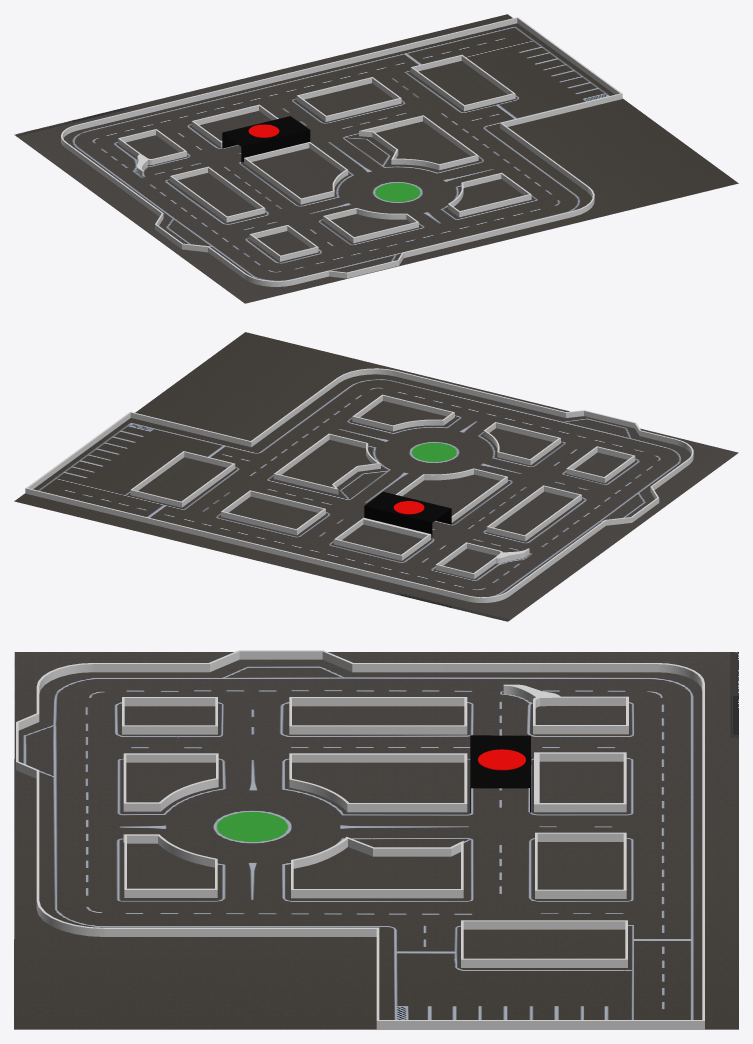
The model's file is duvarlı_pist.dae.
The picture shows the model from 3 angles, top to bottom: view 1: azimuth 30°, elevation 25°; view 2: azimuth 150°, elevation 25°; view 3: azimuth 270°, elevation 25°; orthographic projection. The views are drawn at different scales.
Visible parts, largest first — view 1: Plane.140, dFBXASC196FBXASC177s_duvar, Cube, ic_duvar009, ic_duvar007, ic_duva00r4, ic_duvar005, ic_duvar002, ic_duvar010, ic_duvar011, ic_duvar001, ic_duvar003 (+1 smaller); view 2: Plane.140, dFBXASC196FBXASC177s_duvar, Cube, ic_duvar009, ic_duva00r4, ic_duvar005, ic_duvar011, ic_duvar006, ic_duvar002, ic_duvar007, ic_duvar010, ic_duvar001 (+1 smaller); view 3: Plane.140, dFBXASC196FBXASC177s_duvar, ic_duvar007, ic_duvar002, ic_duvar009, ic_duva00r4, Cube, ic_duvar006, ic_duvar005, ic_duvar010, ic_duvar011, ic_duvar001 (+3 smaller).
Part boxes in pixels (bbox=[...]): Plane.140: bbox=[14, 14, 738, 303]; dFBXASC196FBXASC177s_duvar: bbox=[61, 17, 622, 286]; Cube: bbox=[222, 116, 310, 162]; ic_duvar009: bbox=[359, 115, 478, 170]; ic_duvar007: bbox=[244, 142, 348, 204]; ic_duva00r4: bbox=[410, 54, 515, 111]; ic_duvar005: bbox=[296, 77, 401, 121]; ic_duvar002: bbox=[170, 166, 265, 222]; ic_duvar010: bbox=[323, 208, 418, 243]; ic_duvar011: bbox=[448, 172, 531, 217]; ic_duvar001: bbox=[249, 225, 318, 261]; ic_duvar003: bbox=[118, 129, 186, 165]; Plane.140: bbox=[14, 332, 738, 621]; dFBXASC196FBXASC177s_duvar: bbox=[25, 368, 693, 602]; Cube: bbox=[364, 491, 451, 538]; ic_duvar009: bbox=[273, 433, 380, 494]; ic_duva00r4: bbox=[130, 451, 235, 507]; ic_duvar005: bbox=[221, 490, 325, 535]; ic_duvar011: bbox=[352, 394, 454, 431]; ic_duvar006: bbox=[334, 517, 431, 560]; ic_duvar002: bbox=[486, 485, 581, 541]; ic_duvar007: bbox=[395, 468, 507, 522]; ic_duvar010: bbox=[483, 422, 560, 465]; ic_duvar001: bbox=[566, 446, 635, 483]; Plane.140: bbox=[14, 652, 738, 1029]; dFBXASC196FBXASC177s_duvar: bbox=[16, 650, 704, 1029]; ic_duvar007: bbox=[289, 753, 467, 812]; ic_duvar002: bbox=[289, 697, 467, 734]; ic_duvar009: bbox=[291, 836, 463, 898]; ic_duva00r4: bbox=[461, 920, 627, 967]; Cube: bbox=[470, 735, 531, 812]; ic_duvar006: bbox=[534, 752, 626, 812]; ic_duvar005: bbox=[535, 832, 626, 898]; ic_duvar010: bbox=[123, 753, 218, 811]; ic_duvar011: bbox=[123, 834, 217, 897]; ic_duvar001: bbox=[122, 697, 217, 734].
Bounding box in the file's own units: 3890 × 3156 × 124.
Materials: 3 (1 with a texture image).
